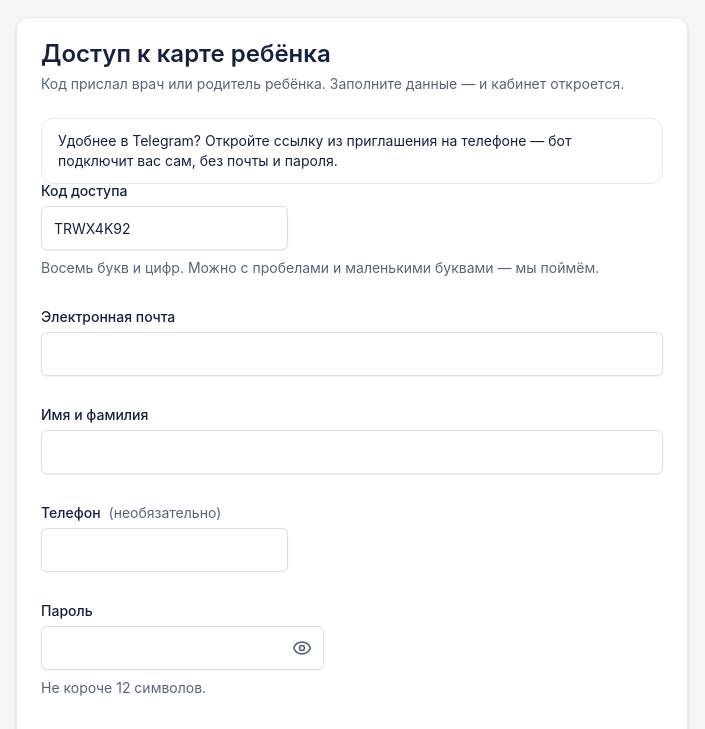
Test case: активация кода доступа семьёй › негодный код показывает одно сообщение и оставляет форму
In the field labelled "Электронная почта": (352, 354) [41, 332, 663, 376], type "mama@example.com"
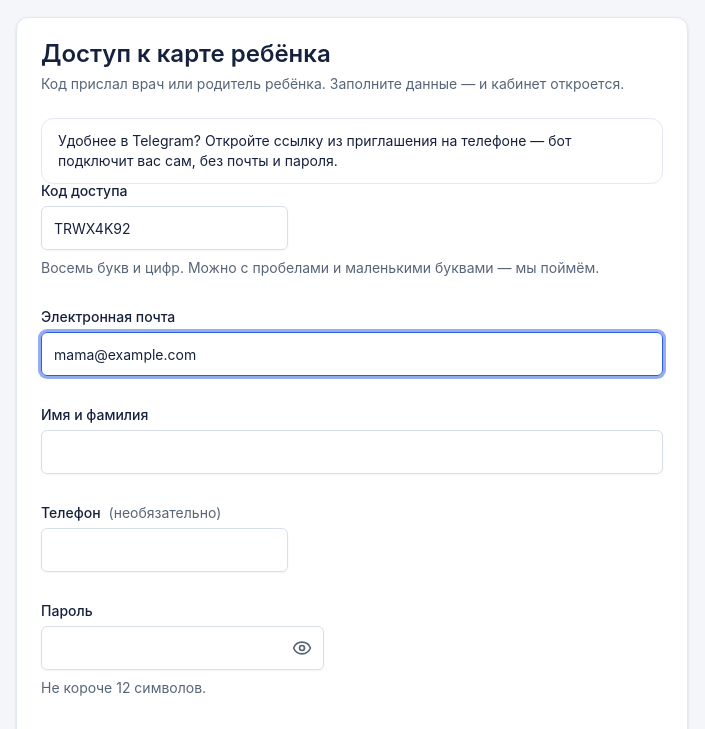
In the field labelled "Имя и фамилия": (352, 452) [41, 430, 663, 474], type "Мама"
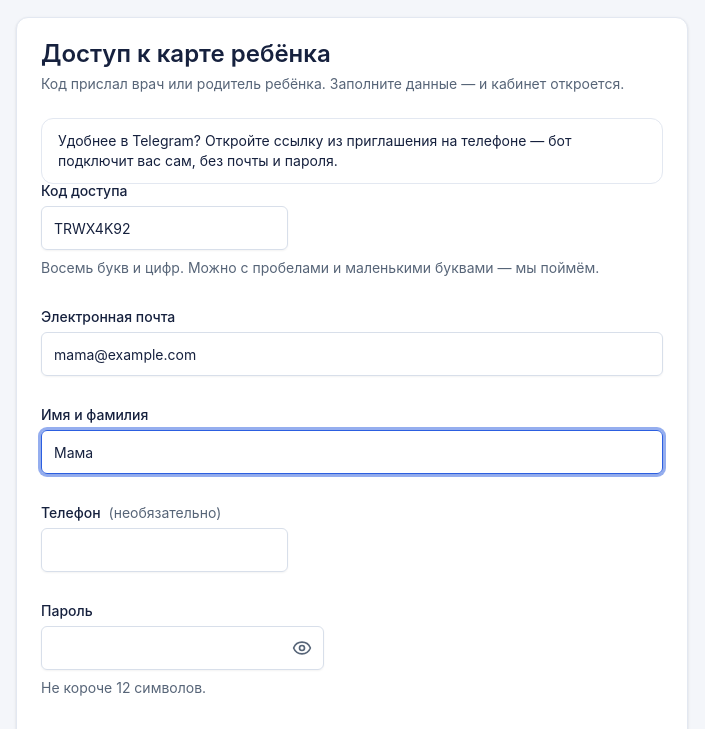
In the password field labelled "Пароль": (182, 648) [41, 626, 324, 670], type "совершенно новый пароль 42"
(page scrolled)
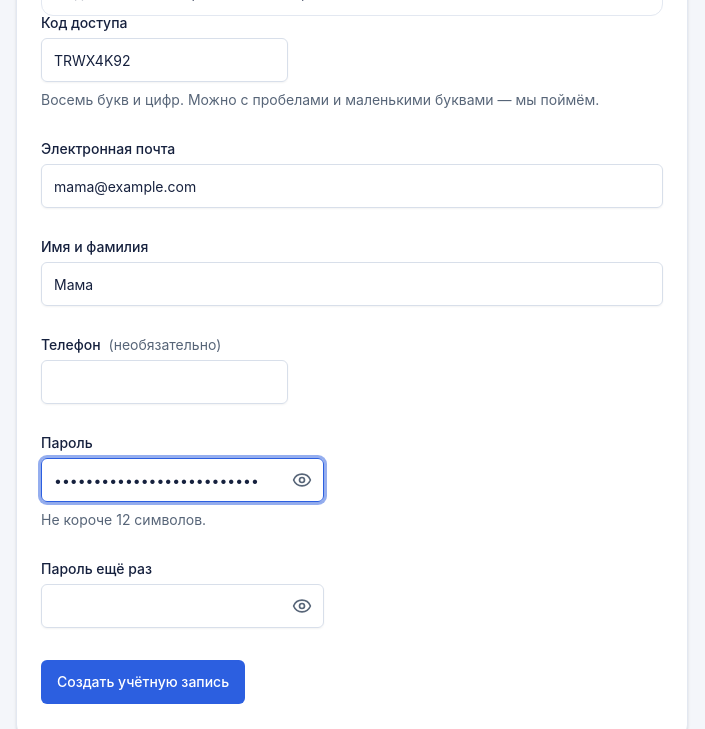
In the password field labelled "Пароль ещё раз": (182, 606) [41, 584, 324, 628], type "совершенно новый пароль 42"
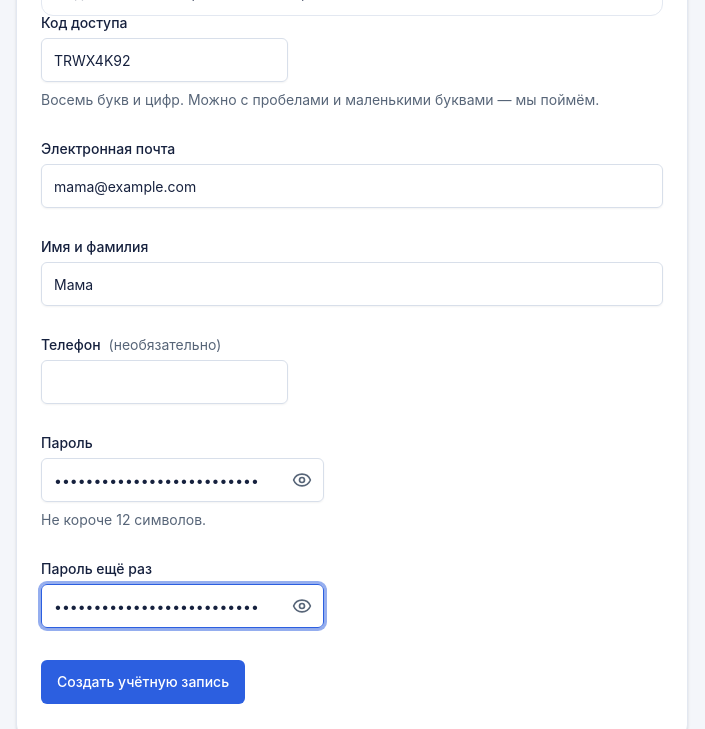
Click the button "Создать учётную запись": (143, 682) [41, 660, 245, 704]
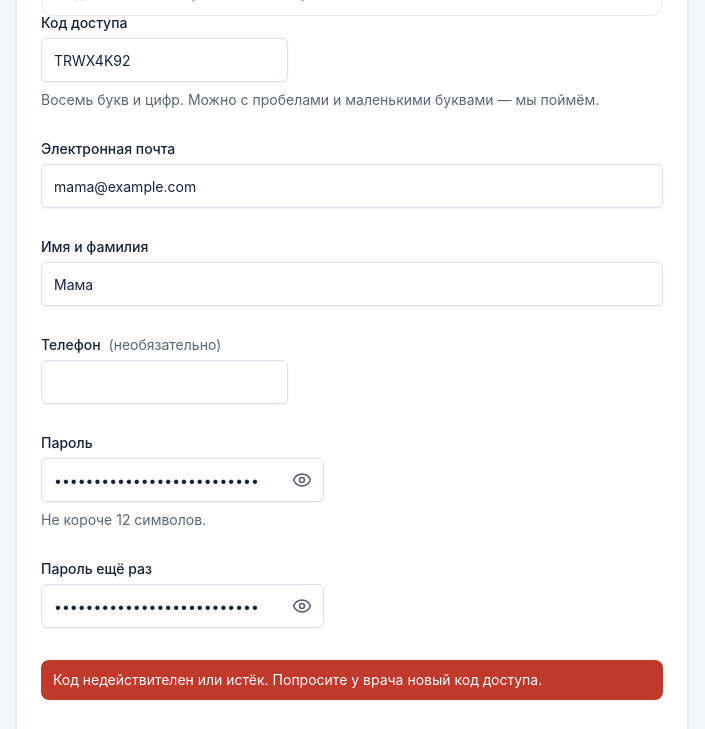
Expected: the field labelled "Код доступа" is shown, [41, 38, 288, 82]
Now the message shows "Код недействителен или истёк", box [53, 671, 542, 688]
